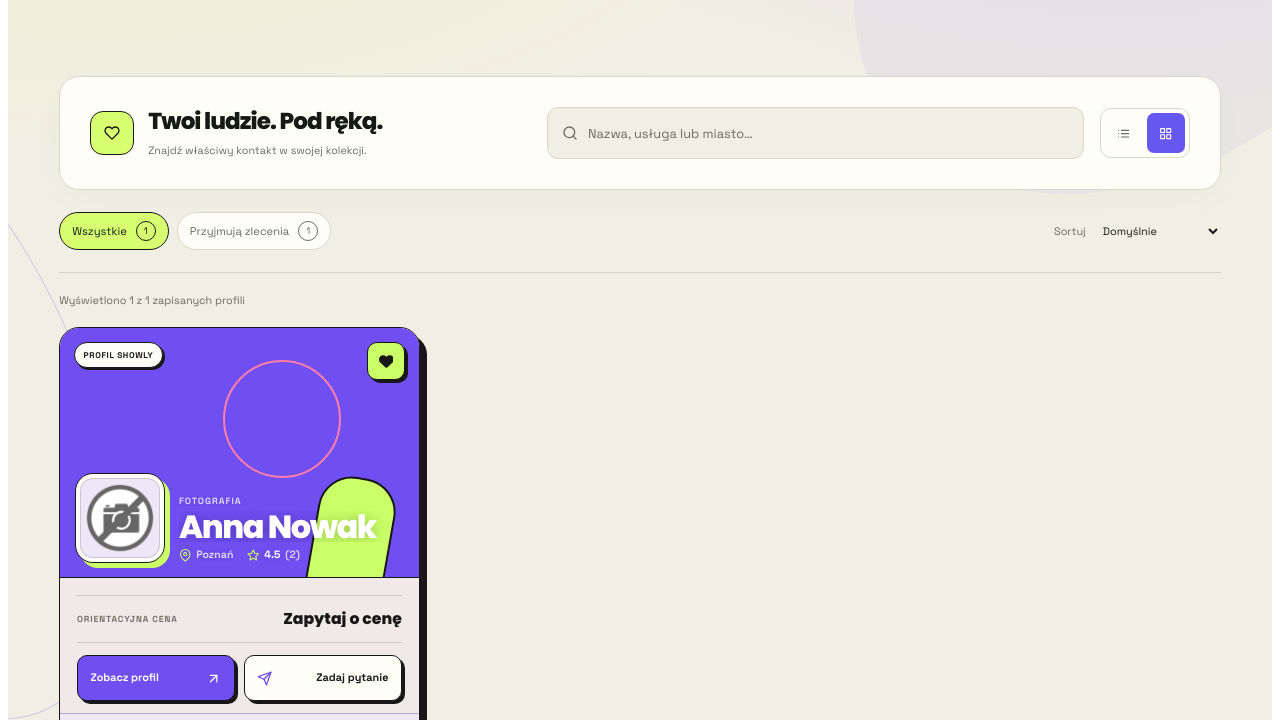
Test: removing the final saved profile keeps its AlertBox visible over the empty collection
The image size is (1280, 720).
(page scrolled)
Click the button named "Usuń profil z ulubionych": (386, 361) [367,342,405,380]
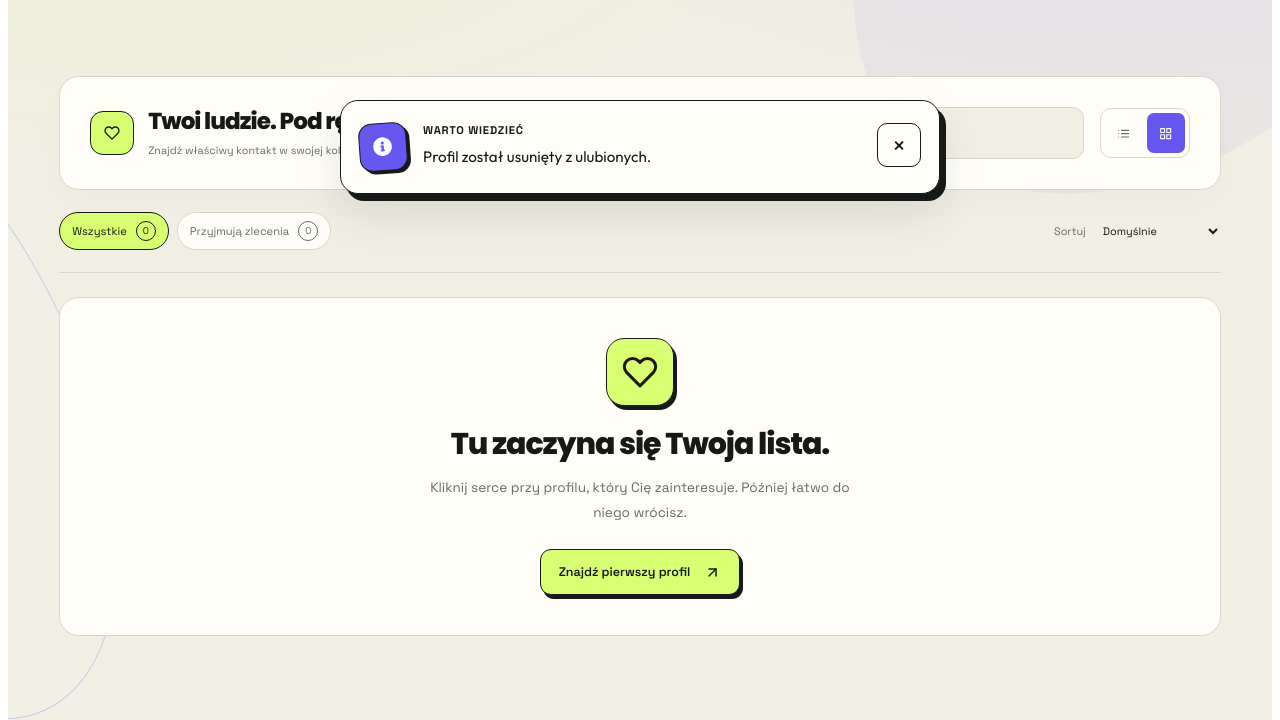
Expected: the heading "Tu zaczyna się Twoja lista." is shown, [451,426,829,462]
Expected: the text "Profil został usunięty z ulubionych." is shown, [423,147,651,166]
